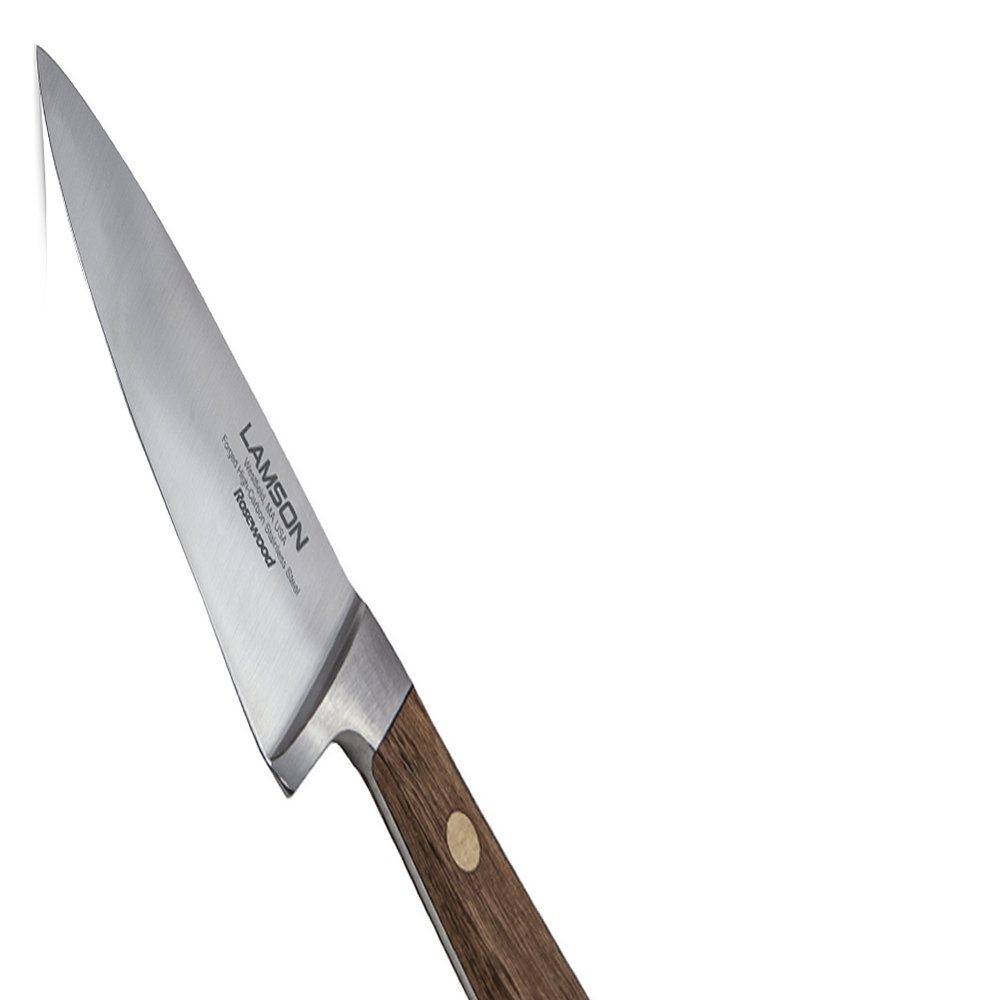knife: (30, 39, 596, 1000)
